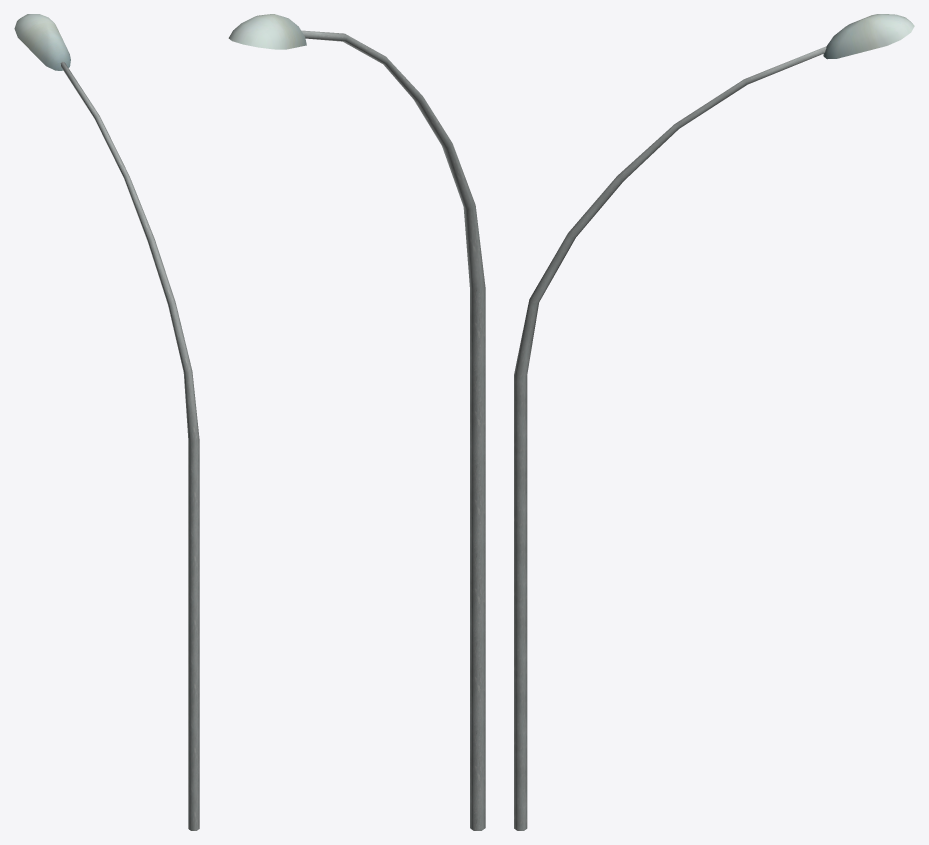
The model's file is StreetLamp.gltf.
The picture shows the model from 3 angles, left to right: view 1: azimuth 30°, elevation 25°; view 2: azimuth 150°, elevation 25°; view 3: azimuth 270°, elevation 25°; orthographic projection. The views are drawn at different scales.
Parts seen in each view (by area): view 1: Line847; view 2: Line847; view 3: Line847.
Boxes of the visible parts, x1,y1,x2,y2 form: Line847: (14, 14, 199, 830); Line847: (228, 14, 485, 830); Line847: (514, 14, 914, 830).
Size of the model in its own units: 0.558 by 9.78 by 4.37.
Materials: 3 (3 with a texture image).
